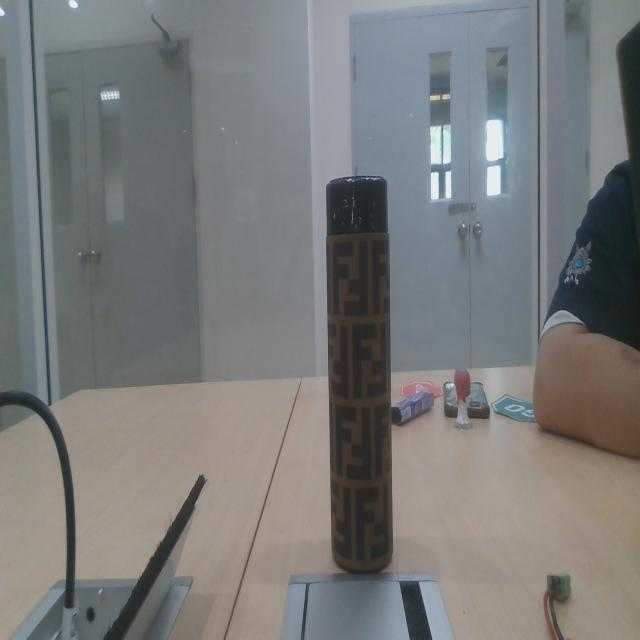Pole: (317, 165, 403, 580)
